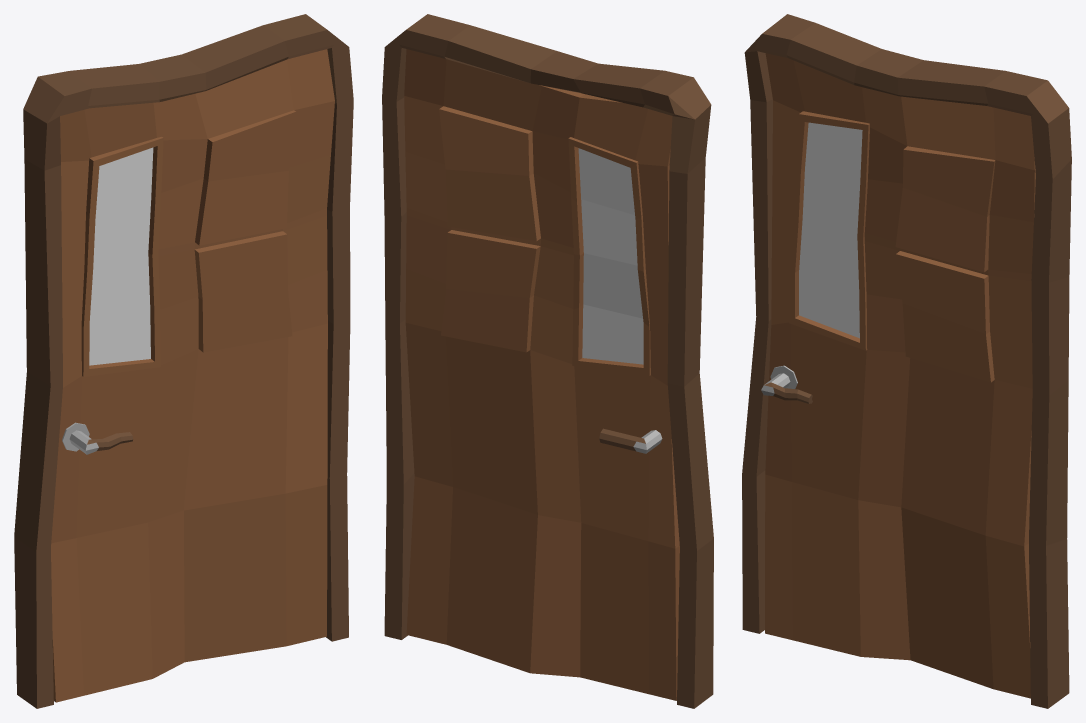
File: Door.fbx
The picture shows the model from 3 angles, left to right: view 1: azimuth 30°, elevation 25°; view 2: azimuth 150°, elevation 25°; view 3: azimuth 330°, elevation 25°; orthographic projection.
Parts seen in each view (by area): view 1: Frame; view 2: Frame; view 3: Frame.
Boxes of the visible parts, <box> form: Frame: <box>14,14,353,708</box>; Frame: <box>382,14,713,708</box>; Frame: <box>742,14,1071,708</box>.
Bounding box in the file's own units: 541 × 996 × 141.
